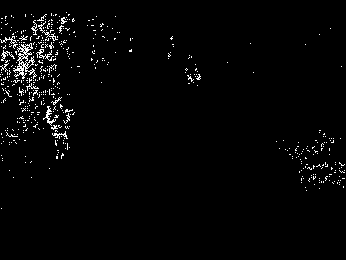person: (44, 95, 73, 162)
